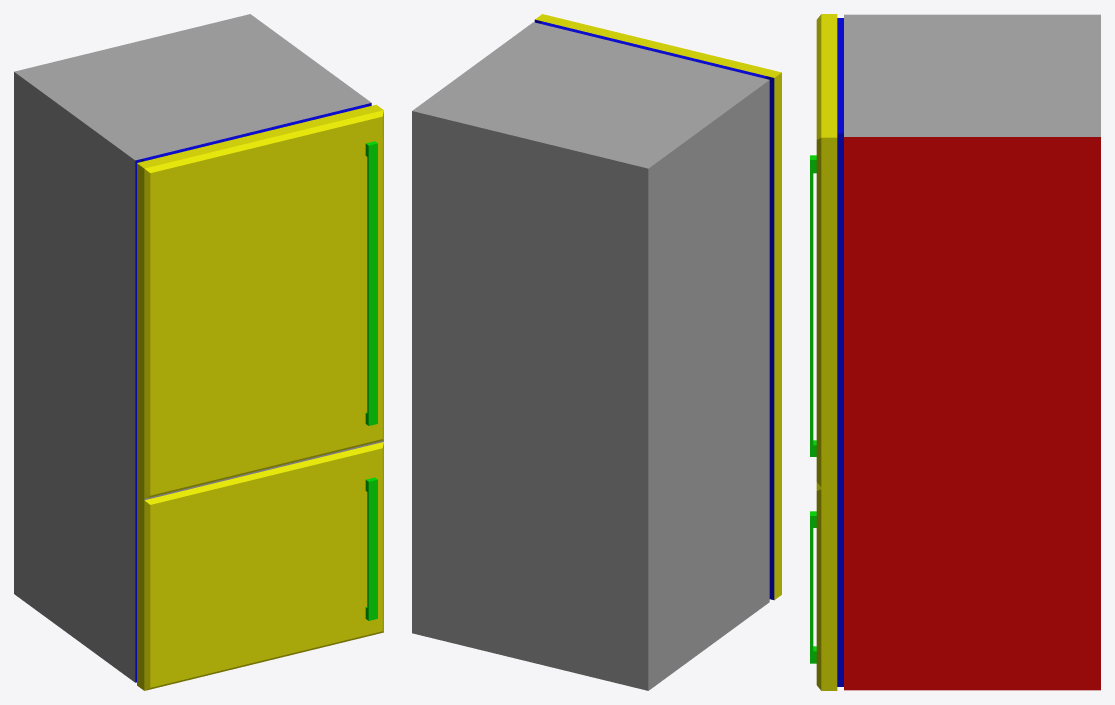
File: Fridge.fbx
3 views of the same model, side by side, from view 1: azimuth 30°, elevation 25°; view 2: azimuth 150°, elevation 25°; view 3: azimuth 270°, elevation 25° (orthographic). The views are drawn at different scales.
Parts seen in each view (by area): view 1: pCube1; view 2: pCube1; view 3: pCube1.
Part boxes in pixels (x1,y1,x2,y2): pCube1: [14, 14, 383, 690]; pCube1: [412, 14, 781, 690]; pCube1: [810, 14, 1100, 690].
Bounding box in the file's own units: 91.19 × 190 × 90.5.
